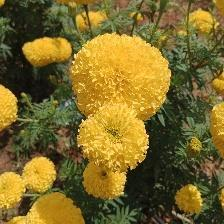marigold: (76, 104, 155, 176)
